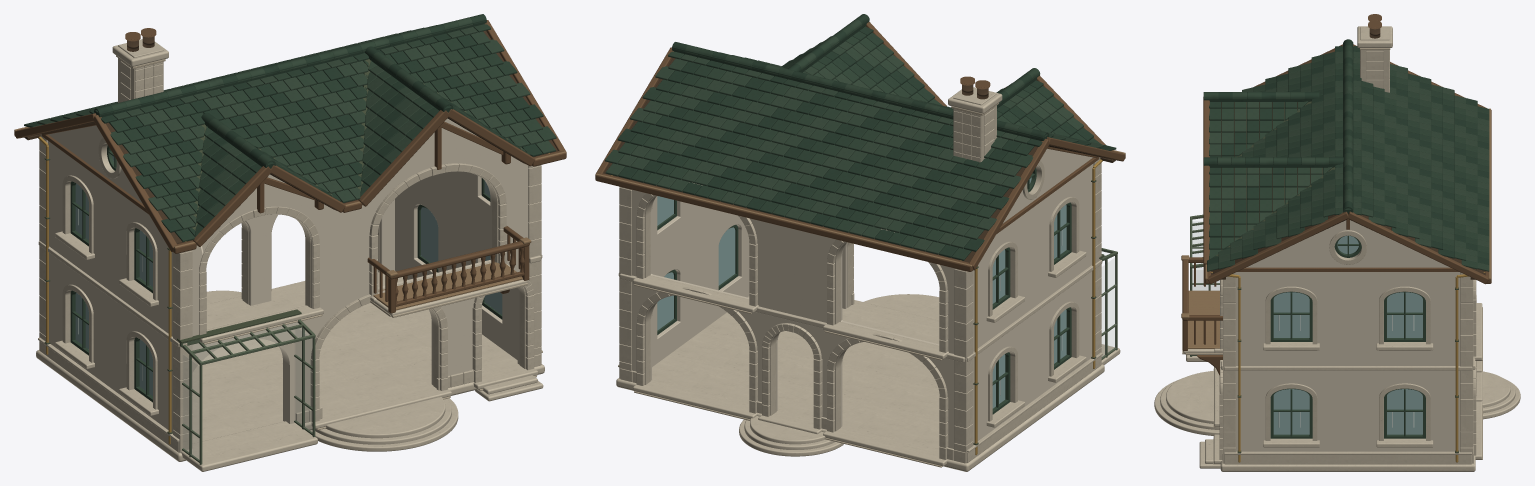
Rendered from house-shell.glb.
The picture shows the model from 3 angles, left to right: view 1: azimuth 30°, elevation 25°; view 2: azimuth 150°, elevation 25°; view 3: azimuth 270°, elevation 25°; orthographic projection. The views are drawn at different scales.
Parts seen in each view (by area): view 1: Shell__Honed_limestone_1, Shell__Ivory_lime_plaster, Shell__Warm_walnut_joinery, Shell__Forest_slate_0, Shell__Forest_slate_1, Shell__Forest_slate_2, Shell__Forest_slate_3, Shell__Forest_slate_4, Shell__Bronze_conservatory, Shell__Quiet_blue_green_side_glazing, Shell__Forest_green_side_casements, Shell__Conservatory_glass (+5 smaller); view 2: Shell__Honed_limestone_1, Shell__Ivory_lime_plaster, Shell__Forest_slate_0, Shell__Forest_slate_1, Shell__Forest_slate_2, Shell__Forest_slate_3, Shell__Forest_slate_4, Shell__Warm_walnut_joinery, Shell__Quiet_blue_green_side_glazing, Shell__Forest_green_side_casements, Shell__Muted_brass, Shell__Walnut_end_grain (+4 smaller); view 3: Shell__Ivory_lime_plaster, Shell__Honed_limestone_1, Shell__Forest_slate_0, Shell__Forest_slate_1, Shell__Forest_slate_2, Shell__Forest_slate_3, Shell__Forest_slate_4, Shell__Warm_walnut_joinery, Shell__Quiet_blue_green_side_glazing, Shell__Forest_green_side_casements, Shell__Worn_oak_edge, Shell__Muted_brass (+4 smaller).
Part boxes in pixels (<box>): Shell__Honed_limestone_1: <box>36,39,544,471</box>; Shell__Ivory_lime_plaster: <box>48,118,528,431</box>; Shell__Warm_walnut_joinery: <box>14,20,566,313</box>; Shell__Forest_slate_0: <box>24,14,543,236</box>; Shell__Forest_slate_1: <box>50,20,556,213</box>; Shell__Forest_slate_2: <box>37,17,555,229</box>; Shell__Forest_slate_3: <box>24,31,530,241</box>; Shell__Forest_slate_4: <box>37,25,543,224</box>; Shell__Bronze_conservatory: <box>178,319,315,464</box>; Shell__Quiet_blue_green_side_glazing: <box>75,155,502,395</box>; Shell__Forest_green_side_casements: <box>70,145,502,402</box>; Shell__Conservatory_glass: <box>183,328,312,459</box>; Shell__Honed_limestone_1: <box>616,87,1120,471</box>; Shell__Ivory_lime_plaster: <box>632,148,1093,449</box>; Shell__Forest_slate_0: <box>617,14,1115,257</box>; Shell__Forest_slate_1: <box>605,25,1091,248</box>; Shell__Forest_slate_2: <box>605,19,1103,254</box>; Shell__Forest_slate_3: <box>630,31,1116,260</box>; Shell__Forest_slate_4: <box>617,41,1103,251</box>; Shell__Warm_walnut_joinery: <box>595,22,1125,271</box>; Shell__Quiet_blue_green_side_glazing: <box>657,177,1066,408</box>; Shell__Forest_green_side_casements: <box>657,168,1071,414</box>; Shell__Muted_brass: <box>611,159,1102,455</box>; Shell__Walnut_end_grain: <box>603,58,1119,262</box>; Shell__Ivory_lime_plaster: <box>1236,220,1460,451</box>; Shell__Honed_limestone_1: <box>1154,26,1520,471</box>; Shell__Forest_slate_0: <box>1203,39,1489,264</box>; Shell__Forest_slate_1: <box>1203,45,1489,269</box>; Shell__Forest_slate_2: <box>1207,51,1489,271</box>; Shell__Forest_slate_3: <box>1209,52,1489,258</box>; Shell__Forest_slate_4: <box>1209,57,1489,262</box>; Shell__Warm_walnut_joinery: <box>1182,14,1491,375</box>; Shell__Quiet_blue_green_side_glazing: <box>1273,235,1422,434</box>; Shell__Forest_green_side_casements: <box>1270,235,1425,438</box>; Shell__Worn_oak_edge: <box>1181,108,1490,348</box>; Shell__Muted_brass: <box>1211,272,1485,462</box>.
Bounding box in the file's own units: 10.54 × 9.22 × 9.56.
18 materials, 12 textured.
